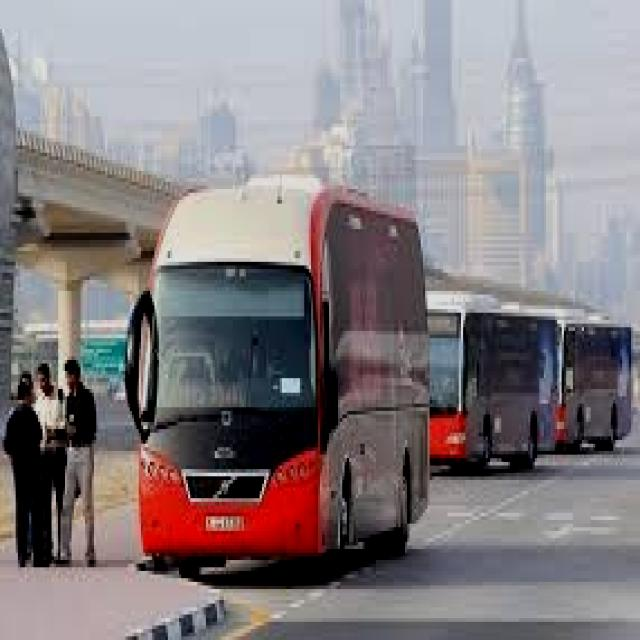bus: (120, 154, 439, 585), (431, 268, 551, 470), (543, 299, 640, 467)
